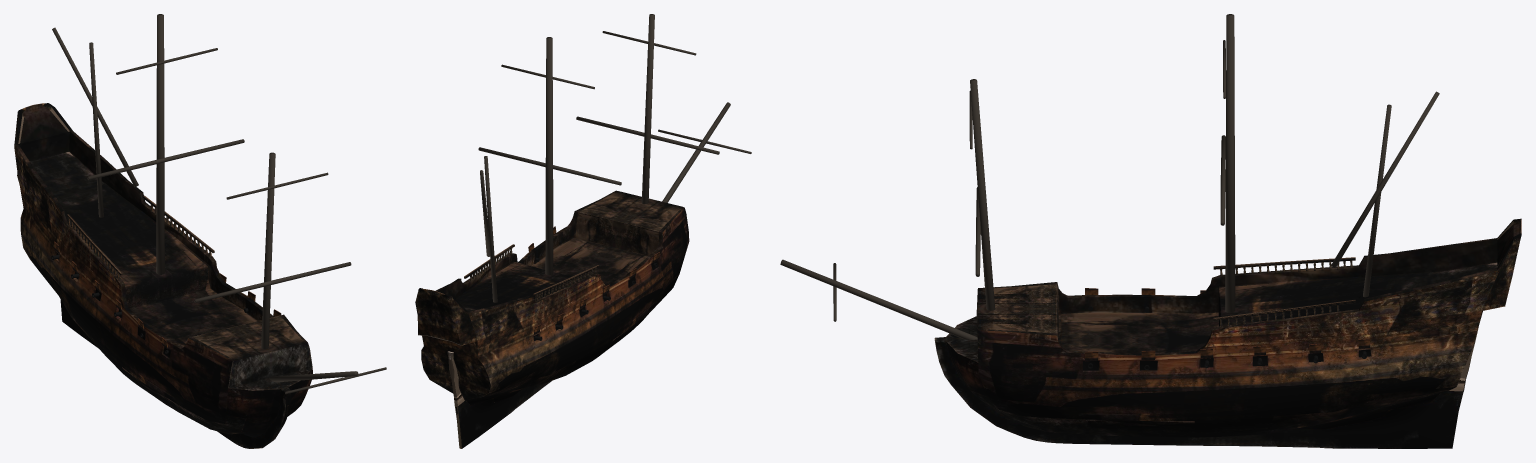
File: pirateship.glb
3 renders of one model, left to right at view 1: azimuth 30°, elevation 25°; view 2: azimuth 150°, elevation 25°; view 3: azimuth 270°, elevation 25°, orthographic. The views are drawn at different scales.
Parts seen in each view (by area): view 1: Plane, Cylinder.001, Cylinder, Cylinder.003, Cylinder.004, Cylinder.006, Cylinder.002; view 2: Plane, Cylinder.001, Cylinder, Cylinder.002, Cylinder.006, Cylinder.004, Cylinder.003; view 3: Plane, Cylinder.001, Cylinder, Cylinder.002, Cylinder.003.
Boxes of the visible parts, x1,y1,x2,y2 form: Plane: (14,103,312,448); Cylinder.001: (89,42,275,349); Cylinder: (156,14,164,274); Cylinder.003: (52,27,138,187); Cylinder.004: (87,139,244,180); Cylinder.006: (194,262,351,302); Cylinder.002: (269,371,358,382); Plane: (415,190,689,448); Cylinder.001: (484,14,654,302); Cylinder: (545,37,553,275); Cylinder.002: (662,102,730,202); Cylinder.006: (576,116,719,154); Cylinder.004: (478,147,621,185); Cylinder.003: (480,170,490,256); Plane: (934,218,1521,448); Cylinder.001: (970,79,1391,310); Cylinder: (1225,14,1235,312); Cylinder.002: (780,259,977,339); Cylinder.003: (1331,91,1439,268).
Bounding box in the file's own units: 8.45 × 19.64 × 30.51.
Materials: 4 (1 with a texture image).
